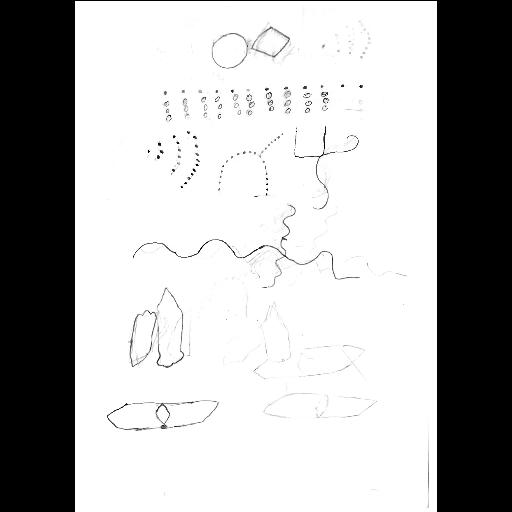shape-1: (210, 23, 290, 69)
shape-2: (164, 79, 364, 95)
shape-3: (164, 92, 330, 124)
shape-4: (146, 128, 200, 190)
shape-5: (294, 122, 360, 210)
shape-6: (218, 128, 284, 196)
shape-7: (133, 204, 359, 288)
shape-8: (129, 288, 185, 370)
shape-9: (107, 398, 221, 432)
